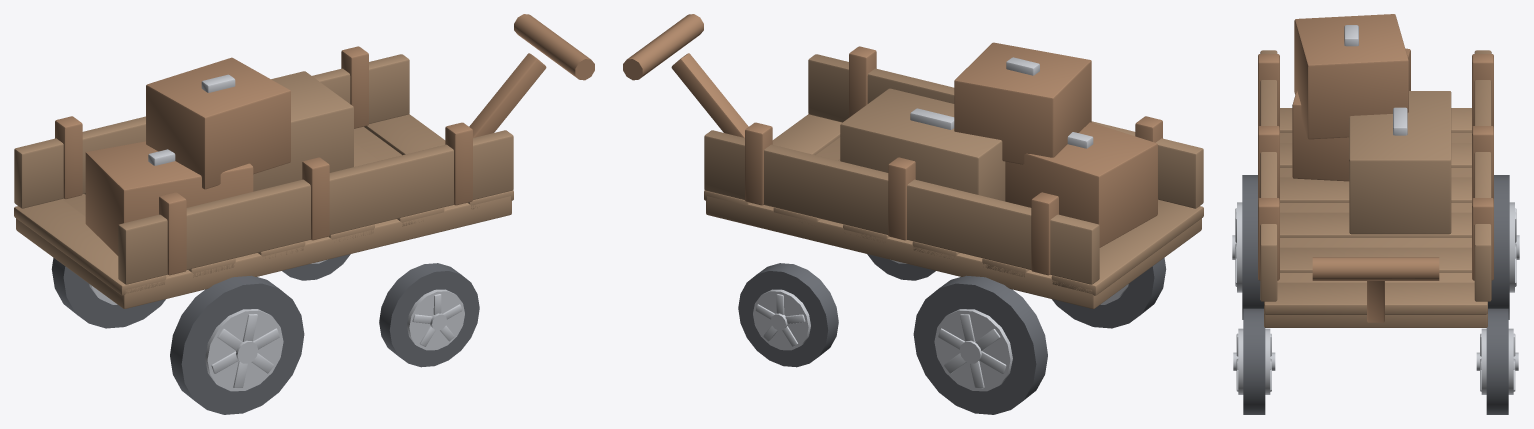
File: th41_gepaeckkarre.glb
3 views of the same model, side by side, from view 1: azimuth 30°, elevation 25°; view 2: azimuth 150°, elevation 25°; view 3: azimuth 270°, elevation 25° (orthographic). The views are drawn at different scales.
Parts seen in each view (by area): view 1: Cube.007, Cube.064, Cube, Cylinder.001, Cube.060, Cube.011, Cube.062, Cylinder.007, Cube.001, Cylinder.002, Cylinder.013, Cube.015 (+10 smaller); view 2: Cube.011, Cube.064, Cube.060, Cube.062, Cube, Cylinder.013, Cube.007, Cylinder.019, Cube.001, Cylinder.016, Cylinder.001, Cube.015 (+10 smaller); view 3: Cube.062, Cube.064, Cube, Cube.006, Cube.007, Cube.011, Cube.005, Cylinder, Cube.060, Cube.004, Cylinder.007, Cylinder.019 (+20 smaller).
Boxes of the visible parts, box(x1,y1,x2,y2) form: Cube.007: box(118, 130, 513, 284); Cube.064: box(146, 57, 290, 189); Cube: box(16, 126, 511, 308); Cylinder.001: box(170, 275, 304, 414); Cube.060: box(85, 141, 253, 255); Cube.011: box(14, 54, 409, 208); Cube.062: box(253, 71, 353, 191); Cylinder.007: box(379, 263, 479, 367); Cube.001: box(14, 199, 166, 295); Cylinder.002: box(205, 309, 283, 391); Cylinder.013: box(51, 257, 165, 328); Cube.015: box(469, 53, 546, 137); Cube.011: box(704, 130, 1099, 284); Cube.064: box(954, 42, 1091, 164); Cube.060: box(1005, 122, 1157, 247); Cube.062: box(840, 88, 1005, 201); Cube: box(706, 137, 1201, 308); Cylinder.013: box(913, 275, 1047, 414); Cube.007: box(808, 54, 1203, 208); Cylinder.019: box(738, 263, 838, 367); Cube.001: box(1051, 199, 1203, 295); Cylinder.016: box(934, 309, 1012, 391); Cylinder.001: box(1052, 257, 1166, 328); Cube.015: box(671, 53, 748, 137); Cube.062: box(1349, 91, 1451, 234); Cube.064: box(1294, 14, 1408, 139); Cube: box(1264, 133, 1487, 327); Cube.006: box(1264, 282, 1487, 314); Cube.007: box(1260, 50, 1277, 301); Cube.011: box(1474, 50, 1491, 301); Cube.005: box(1280, 247, 1471, 272); Cylinder: box(1312, 257, 1439, 280); Cube.060: box(1292, 48, 1410, 181); Cube.004: box(1280, 212, 1471, 237); Cylinder.007: box(1243, 308, 1265, 414); Cylinder.019: box(1486, 308, 1508, 414).
Size of the model in its own units: 2.43 by 1.35 by 1.18.
